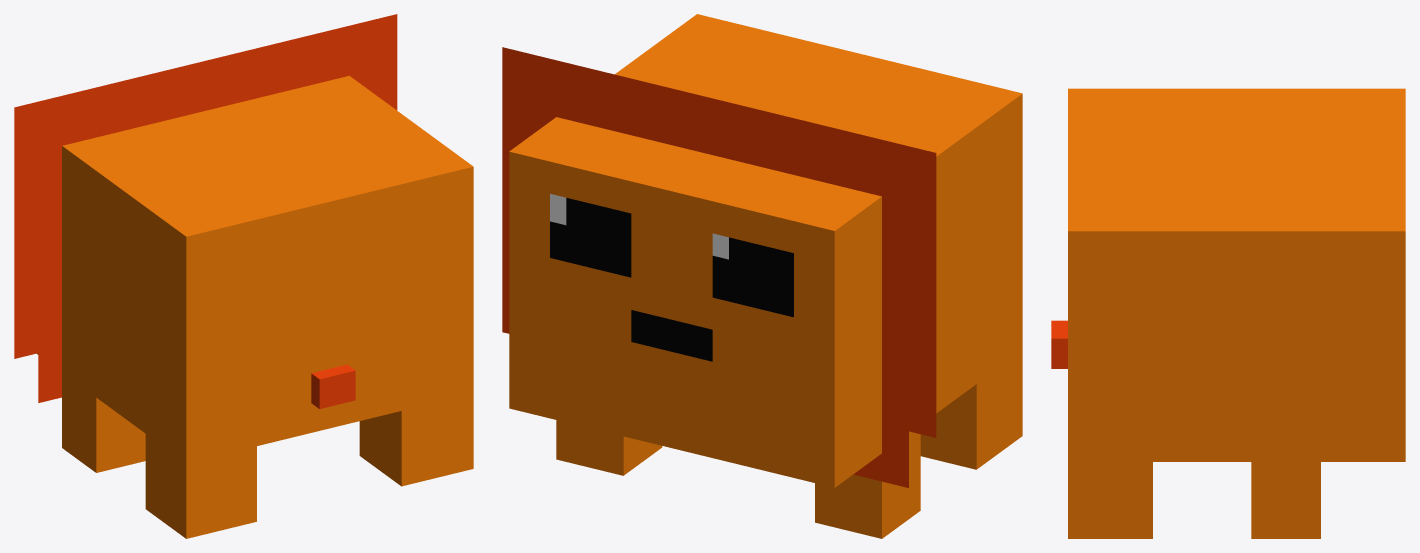
Rendered from lion.dae.
The picture shows the model from 3 angles, left to right: view 1: azimuth 30°, elevation 25°; view 2: azimuth 150°, elevation 25°; view 3: azimuth 270°, elevation 25°; orthographic projection. The views are drawn at different scales.
Parts seen in each view (by area): view 1: SketchUp (×3); view 2: SketchUp (×5); view 3: SketchUp (×2).
Part boxes in pixels (bbox=[...]): SketchUp (×3): bbox=[14, 14, 473, 538]; SketchUp (×5): bbox=[502, 14, 1022, 538]; SketchUp (×2): bbox=[1051, 88, 1405, 538].
Bounding box in the file's own units: 104 × 82.28 × 91.79.
